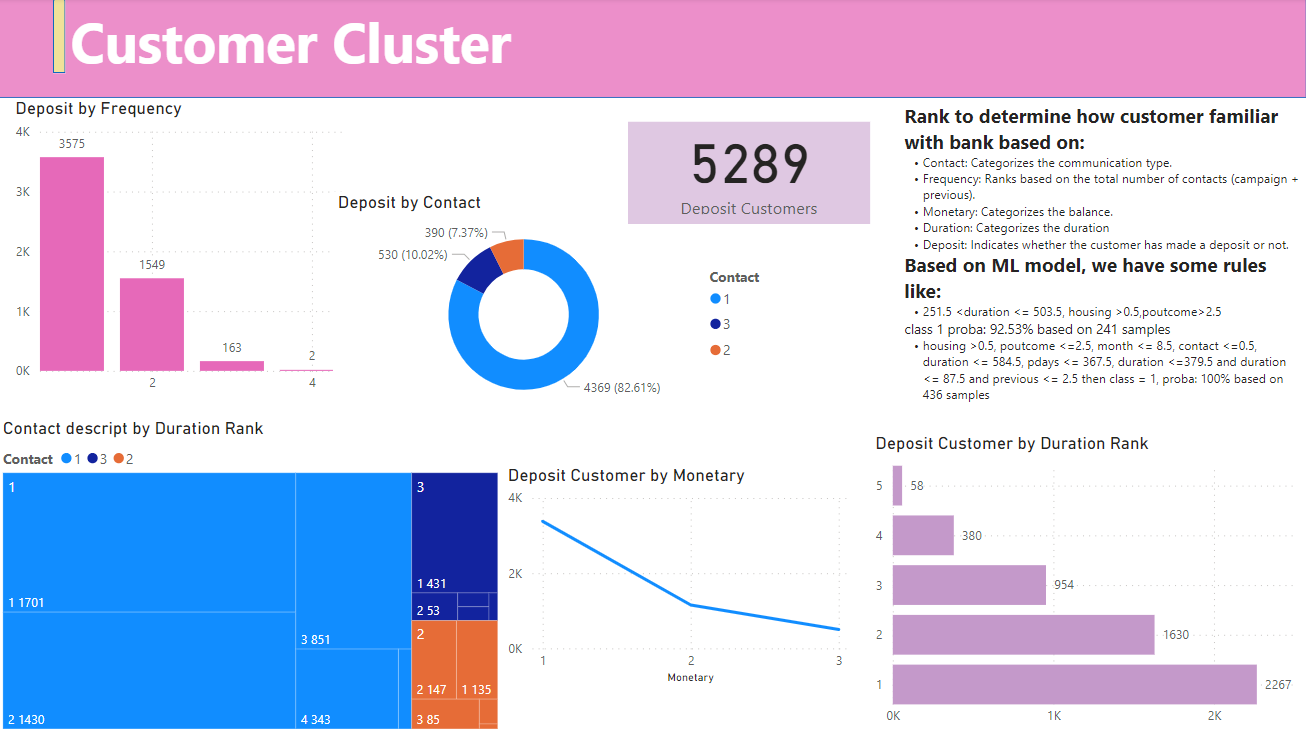

Layout of this report page (visuals, bound fields, positions):
{"tool":"powerbi","page":{"name":"customer cluster","canvas":[1280,720],"ordinal":1},"visuals":[{"type":"shape","box":[0,0,1279.9,97.8],"z":1000},{"type":"shape","box":[53.8,0,12.2,73.3],"z":2000},{"type":"textbox","box":[66,1.2,938.8,96.6],"z":2001},{"type":"columnChart","title":"Deposit by Frequency","fields":{"Y":["Sum(Rank.Deposit)"],"Category":["Rank.FrequencyRank"]},"box":[12.2,97.8,331.3,297],"z":2003},{"type":"donutChart","title":"Deposit by Contact","fields":{"Y":["Sum(Rank.Deposit)"],"Category":["Rank.Contact"]},"box":[327.6,189.5,441.3,221.3],"z":2004},{"type":"barChart","title":"Deposit Customer by Duration Rank","fields":{"Y":["Sum(Rank.Deposit)"],"Category":["Rank.durationRank"]},"box":[853.2,425.4,426.6,294.6],"z":2005},{"type":"lineChart","title":"Deposit Customer by Monetary","fields":{"Category":["Rank.Monetary"],"Y":["Sum(Rank.Deposit)"]},"box":[493.9,456,343.5,220],"z":2006},{"type":"card","fields":{"Values":["Sum(Rank.Deposit)"]},"box":[616.1,121,237.1,100.2],"z":2007},{"type":"treemap","title":"Contact descript by Duration Rank","fields":{"Values":["Sum(Rank.Deposit)"],"Group":["Rank.Contact"],"Details":["Rank.durationRank"]},"box":[0,410.7,493.9,309.3],"z":2009},{"type":"textbox","box":[881.4,97.8,398.5,312.9],"z":2010}]}

Visuals, with their boxes in screenshot pixels (x1, y1, x2, y2), scaled from the page's 1280x720 canvas onto the 1306x731 screenshot:
shape: (x1=0, y1=0, x2=1305, y2=99)
shape: (x1=55, y1=0, x2=67, y2=74)
textbox: (x1=67, y1=1, x2=1025, y2=99)
"Deposit by Frequency" columnChart: (x1=12, y1=99, x2=350, y2=401)
"Deposit by Contact" donutChart: (x1=334, y1=192, x2=785, y2=417)
"Deposit Customer by Duration Rank" barChart: (x1=871, y1=432, x2=1305, y2=730)
"Deposit Customer by Monetary" lineChart: (x1=504, y1=463, x2=854, y2=686)
card - Sum(Rank.Deposit): (x1=629, y1=123, x2=871, y2=225)
"Contact descript by Duration Rank" treemap: (x1=0, y1=417, x2=504, y2=730)
textbox: (x1=899, y1=99, x2=1305, y2=417)
